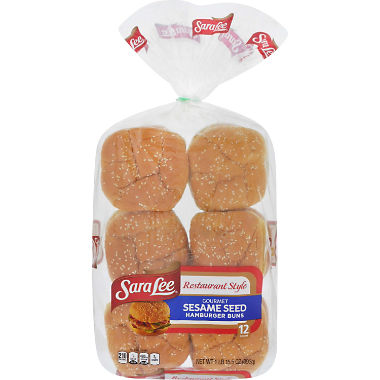hamburger_buns: (92, 114, 278, 380)
